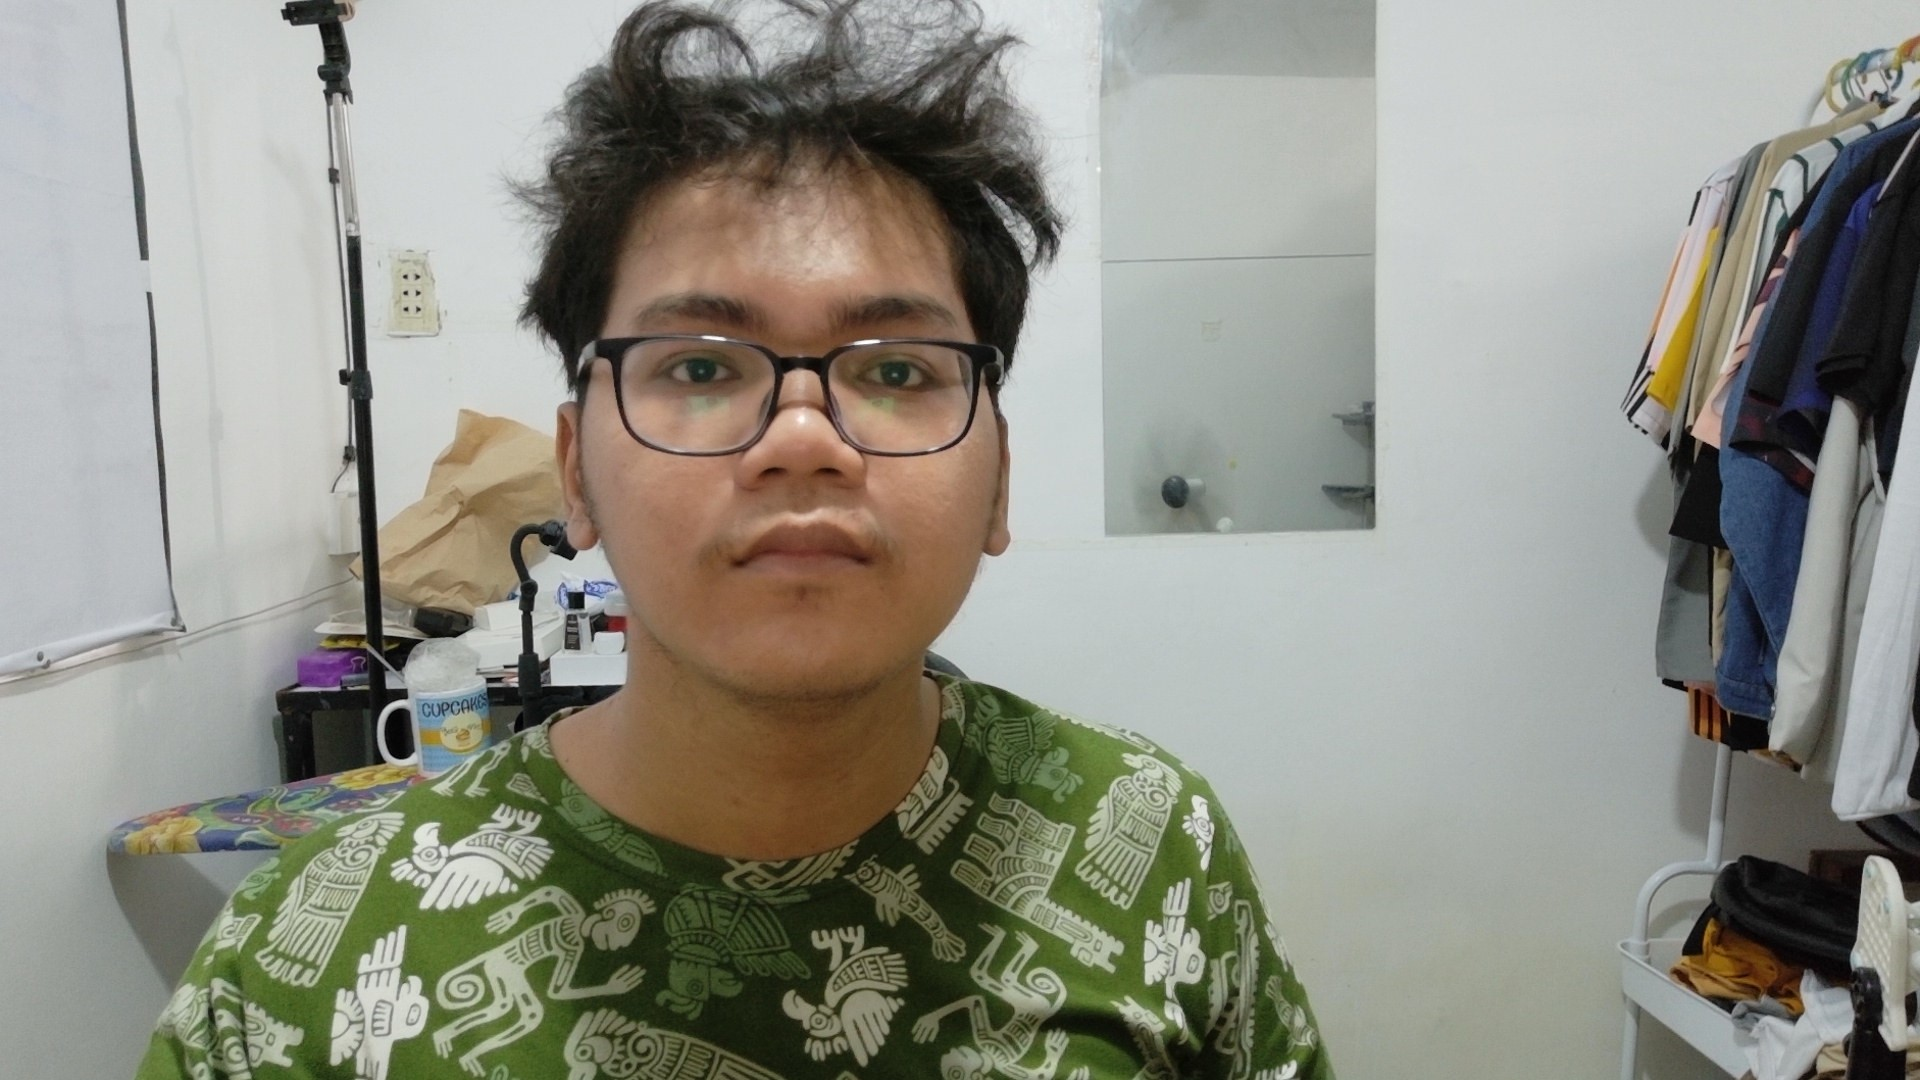face: (492, 10, 1160, 685)
